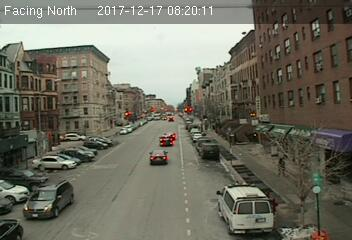car: (21, 177, 75, 220), (198, 142, 220, 159), (148, 149, 169, 166), (158, 135, 174, 148)
pedestrian: (276, 154, 287, 178)
police: (216, 180, 276, 234)
